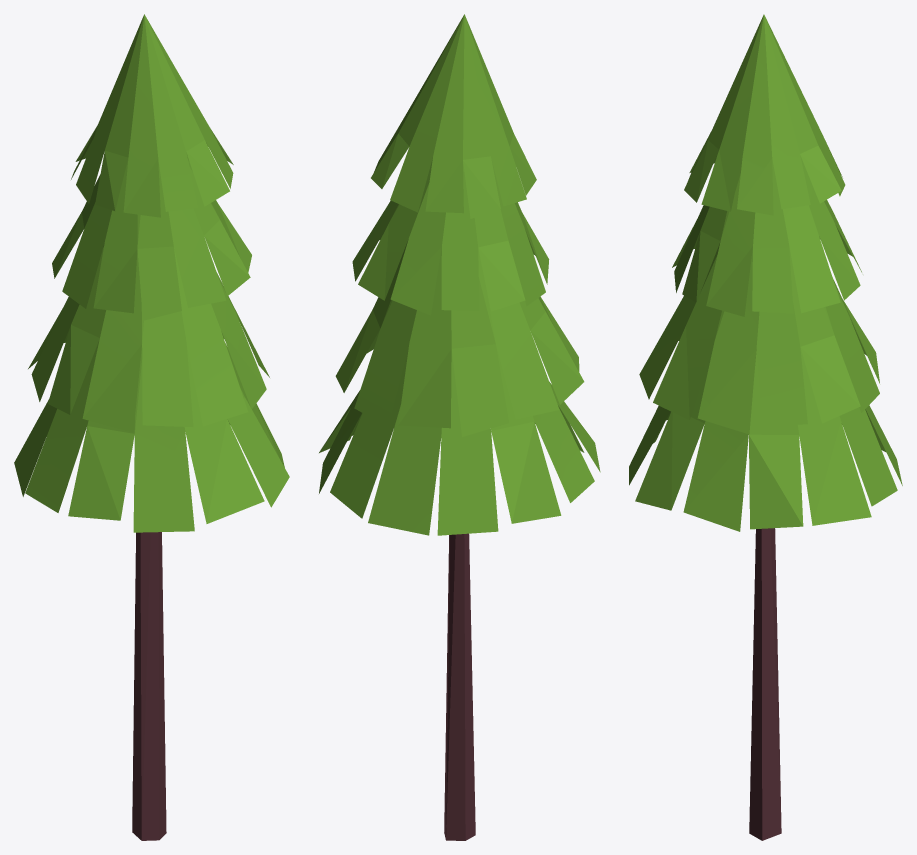
Rendered from Tree_1.FBX.
The picture shows the model from 3 angles, left to right: view 1: azimuth 30°, elevation 25°; view 2: azimuth 150°, elevation 25°; view 3: azimuth 270°, elevation 25°; orthographic projection.
Visible parts, largest first — view 1: Tree_1; view 2: Tree_1; view 3: Tree_1.
Part boxes in pixels (x1=…): Tree_1: x1=14, y1=14, x2=289, y2=840; Tree_1: x1=319, y1=14, x2=600, y2=840; Tree_1: x1=629, y1=14, x2=902, y2=840.
Size of the model in its own units: 2.22 by 7.31 by 2.22.
